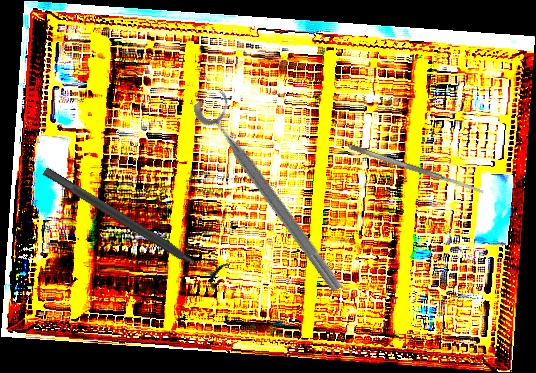Fixation Ring: (189, 84, 360, 298), (36, 156, 231, 292)
Spatula Surgical: (347, 142, 487, 197)
